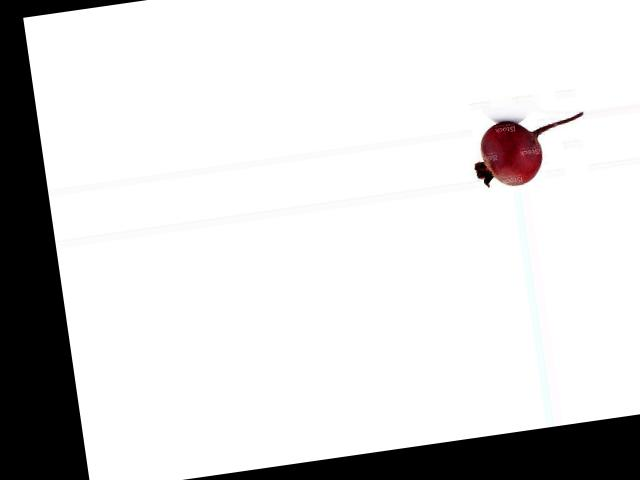beet: (468, 110, 591, 190)
